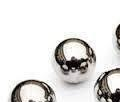ironball: (48, 34, 98, 87), (7, 77, 61, 101), (92, 66, 119, 101), (110, 15, 119, 63)
